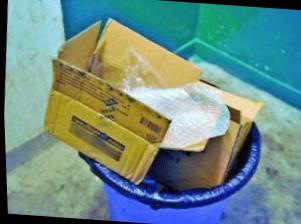cardboard: (35, 15, 228, 184)
